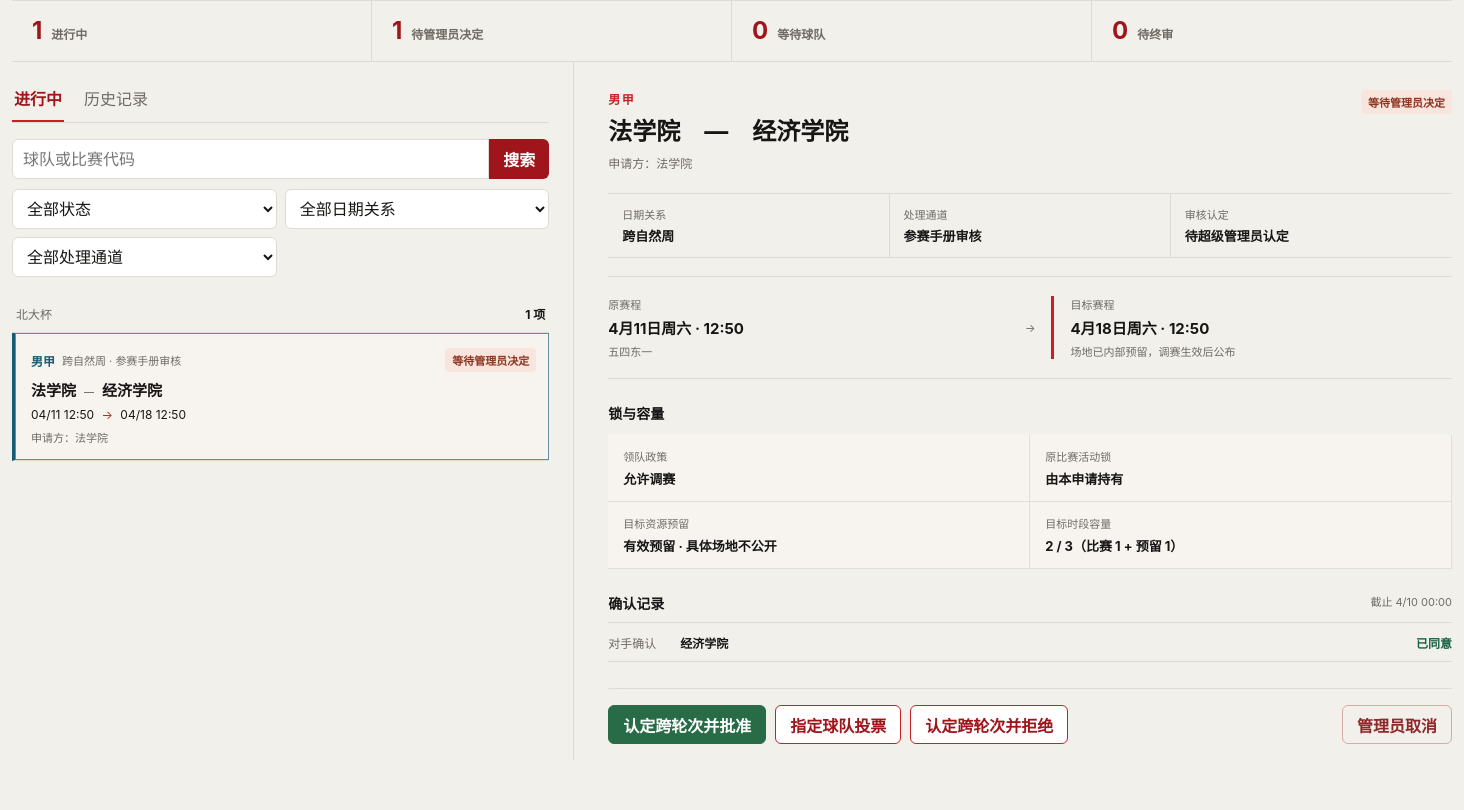
Test: RescheduleManagementPage › keeps a 409 conflict visible after refreshing authoritative data
Click the button "认定跨轮次并批准" at (687, 724), box [608,705,766,744]
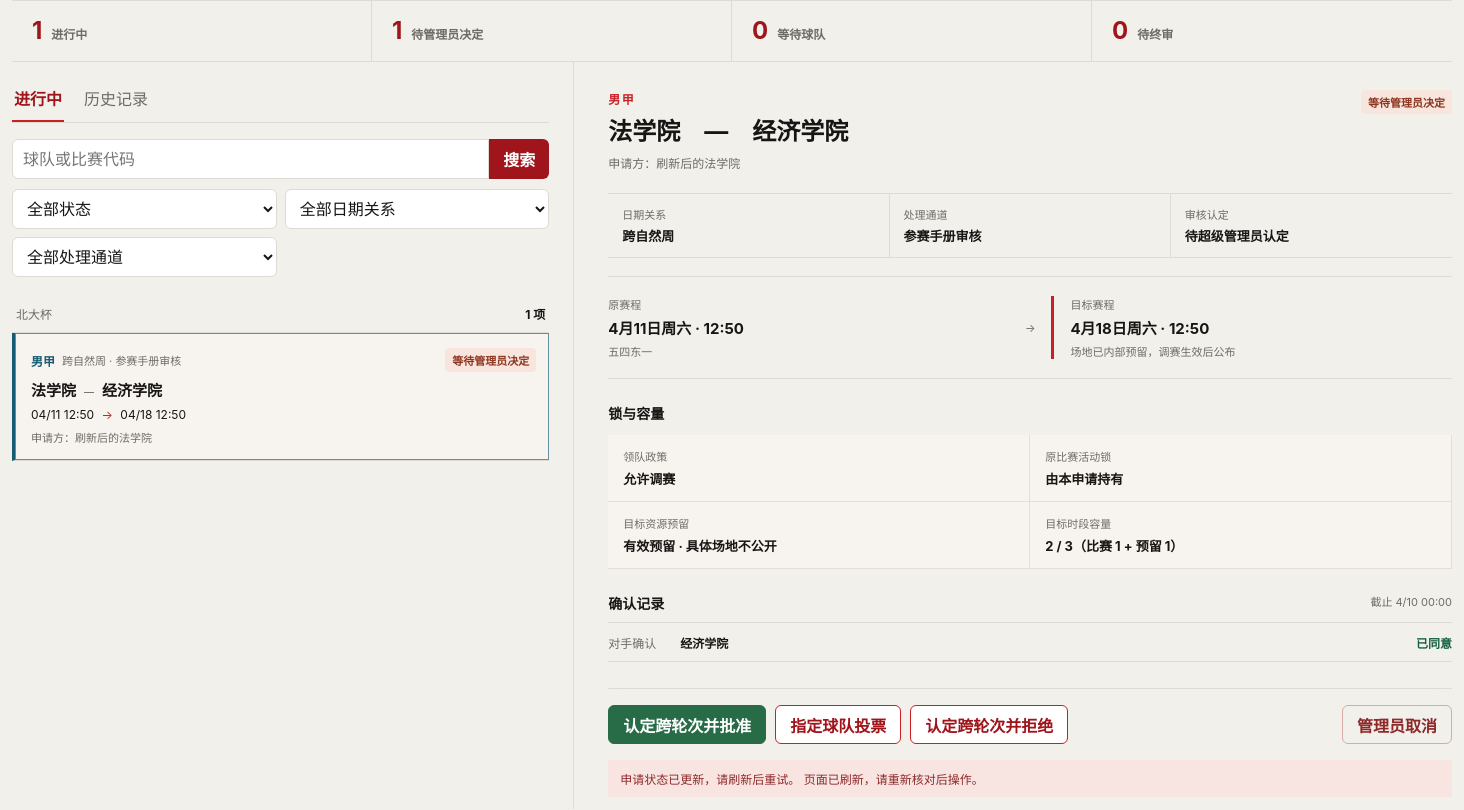
Now the message reads "申请状态已更新，请刷新后重试。 页面已刷新，请重新核对后操作。", box [620,772,984,787]
